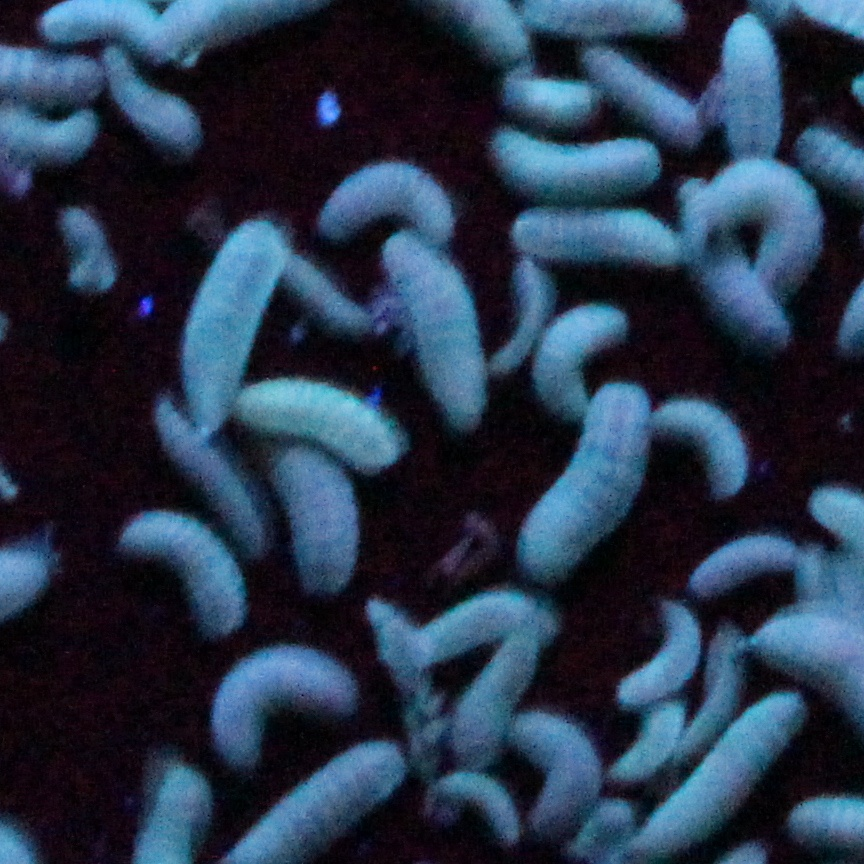larve: (637, 695, 812, 843), (517, 402, 652, 572), (380, 238, 496, 430), (177, 210, 284, 415), (114, 508, 246, 639), (202, 648, 356, 755), (680, 195, 781, 352), (703, 154, 817, 284), (246, 389, 411, 475), (296, 154, 457, 241), (270, 447, 362, 592), (491, 130, 659, 204), (517, 714, 606, 843), (457, 628, 540, 764), (714, 12, 789, 156), (105, 54, 203, 164), (595, 54, 707, 150), (498, 212, 680, 268), (533, 306, 624, 416), (652, 398, 751, 498), (426, 770, 531, 852), (619, 603, 699, 703), (155, 411, 242, 498), (676, 627, 742, 741), (389, 596, 547, 642), (689, 524, 793, 593), (495, 252, 548, 378), (498, 75, 606, 129), (618, 701, 678, 785)
